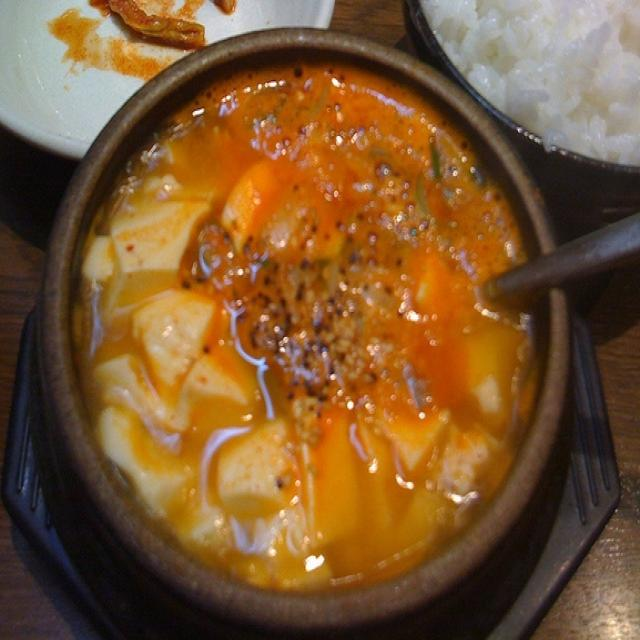汤锅炖物: (23, 27, 608, 620)
